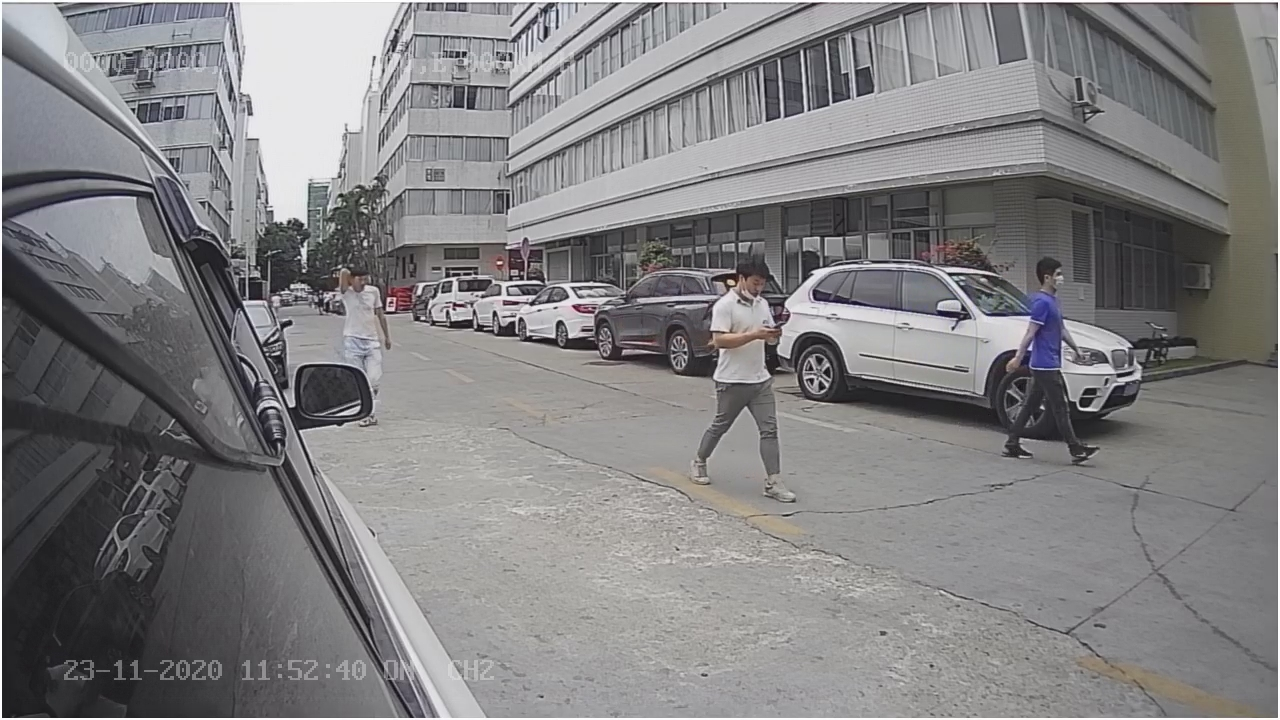person: (705, 256, 795, 501), (327, 259, 397, 362)
